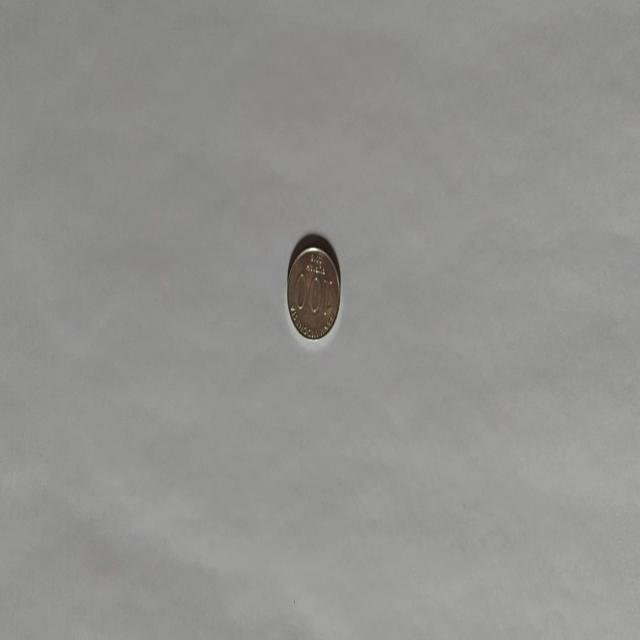seratus rupiah: (286, 244, 340, 342)
